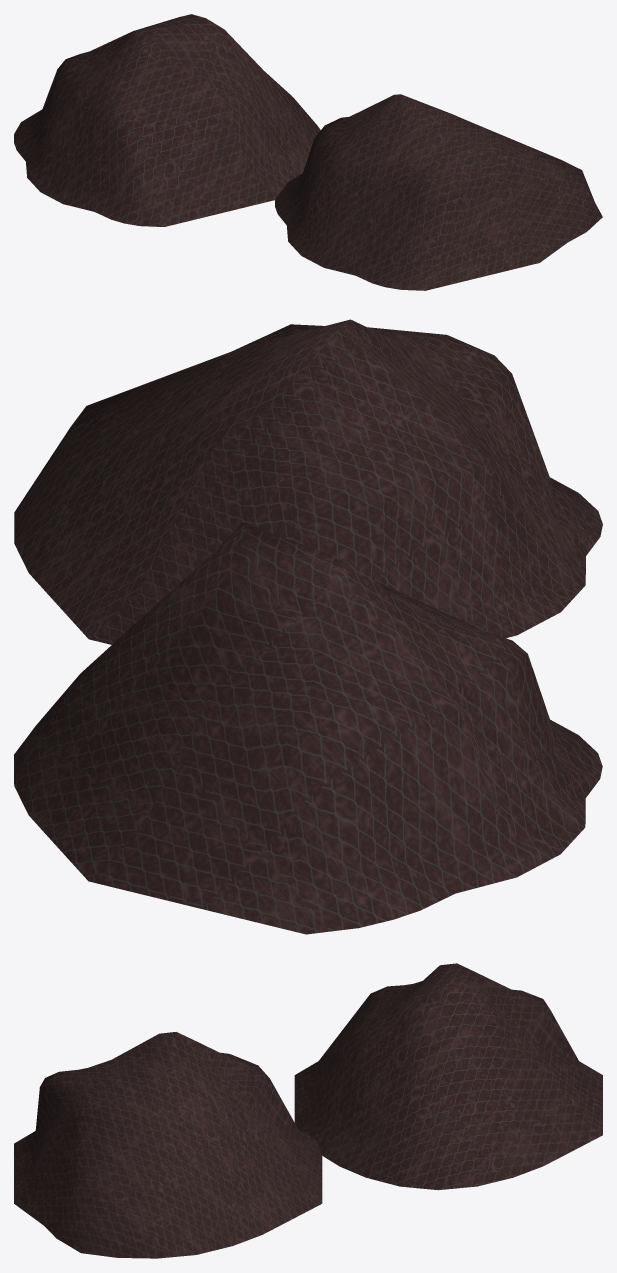
File: gora musora 1+2.fbx
The picture shows the model from 3 angles, top to bottom: view 1: azimuth 30°, elevation 25°; view 2: azimuth 150°, elevation 25°; view 3: azimuth 270°, elevation 25°; orthographic projection. The views are drawn at different scales.
Visible parts, largest first — view 1: Cube.018, Cube.017; view 2: Cube.018, Cube.017; view 3: Cube.017, Cube.018.
Boxes of the visible parts, left/top/right/bottom form: Cube.018: left=14, top=14, right=320, bottom=226; Cube.017: left=275, top=94, right=602, bottom=290; Cube.018: left=14, top=522, right=602, bottom=934; Cube.017: left=14, top=319, right=602, bottom=644; Cube.017: left=14, top=1032, right=322, bottom=1258; Cube.018: left=294, top=963, right=602, bottom=1190.
Bounding box in the file's own units: 3766 × 1177 × 4392.
